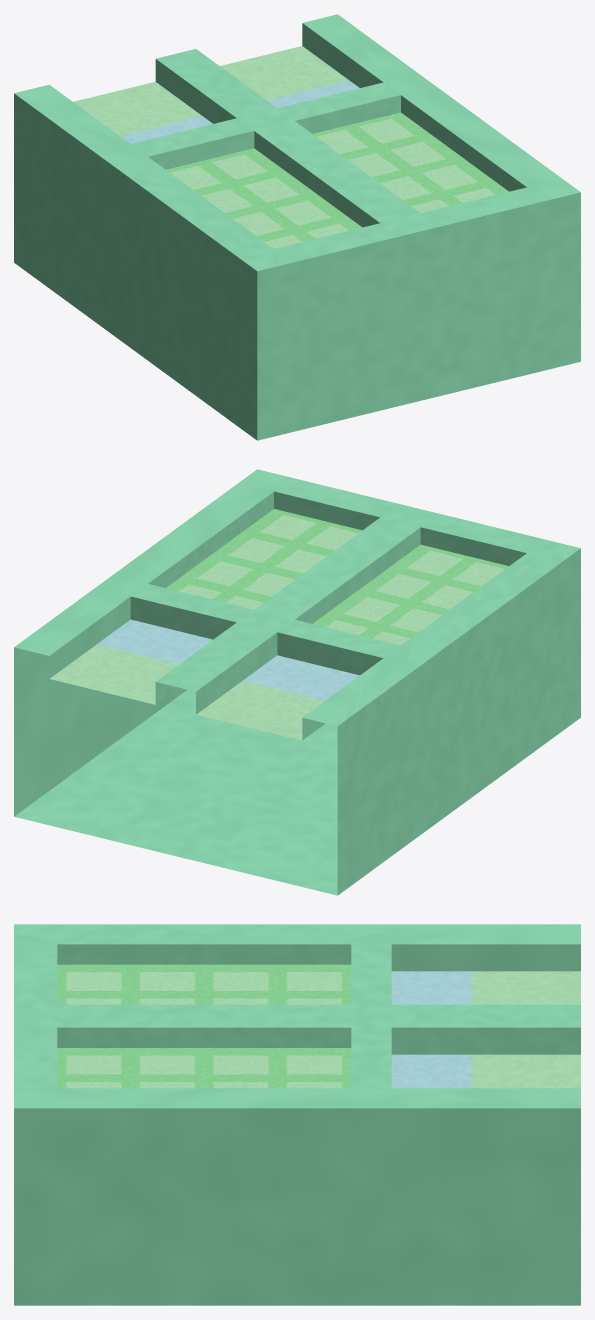
Rendered from cityBlockWall.fbx.
3 views of the same model, one above another, from view 1: azimuth 30°, elevation 25°; view 2: azimuth 150°, elevation 25°; view 3: azimuth 270°, elevation 25° (orthographic). The views are drawn at different scales.
Parts seen in each view (by area): view 1: building3x2_01; view 2: building3x2_01; view 3: building3x2_01.
Boxes of the visible parts, x1=… form: building3x2_01: x1=14, y1=14, x2=580, y2=440; building3x2_01: x1=14, y1=469, x2=580, y2=895; building3x2_01: x1=14, y1=924, x2=580, y2=1305.
Size of the model in its own units: 256 by 128 by 333.
Materials: 1 (1 with a texture image).
